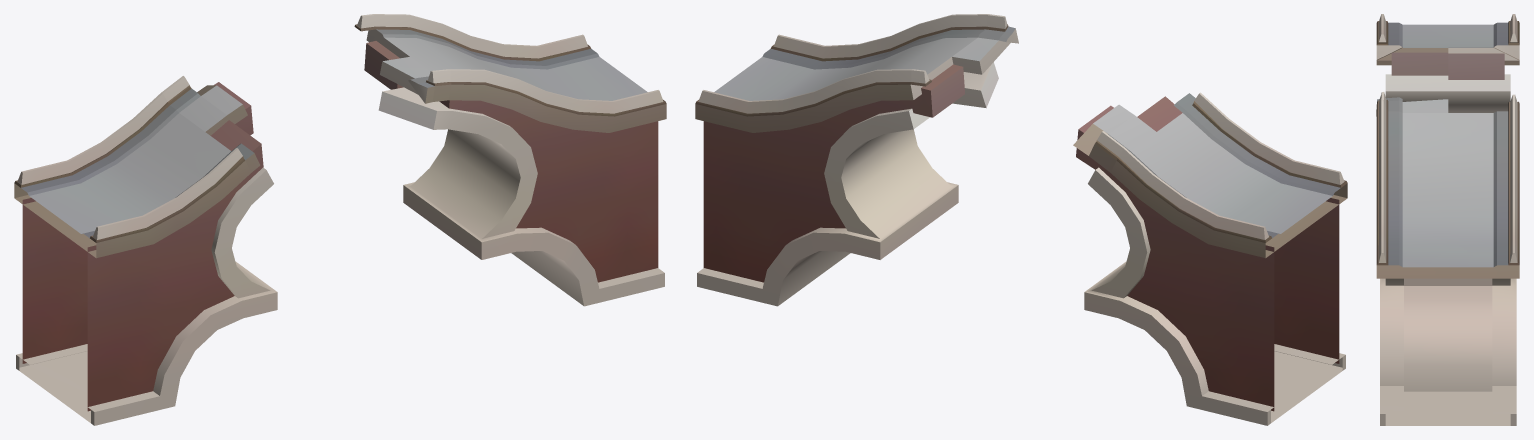
File: M_BridgeBroken_01.fbx
3 renders of one model, left to right at view 1: azimuth 30°, elevation 25°; view 2: azimuth 150°, elevation 25°; view 3: azimuth 270°, elevation 25°, orthographic. The views are drawn at different scales.
Visible parts, largest first — view 1: M_BridgeBroken_01; view 2: M_BridgeBroken_01; view 3: M_BridgeBroken_01.
Boxes of the visible parts, x1,y1,x2,y2 form: M_BridgeBroken_01: [14, 14, 666, 425]; M_BridgeBroken_01: [695, 14, 1347, 425]; M_BridgeBroken_01: [1376, 14, 1519, 425].
Size of the model in its own units: 4469 by 2024 by 1115.
Materials: 1 (1 with a texture image).
